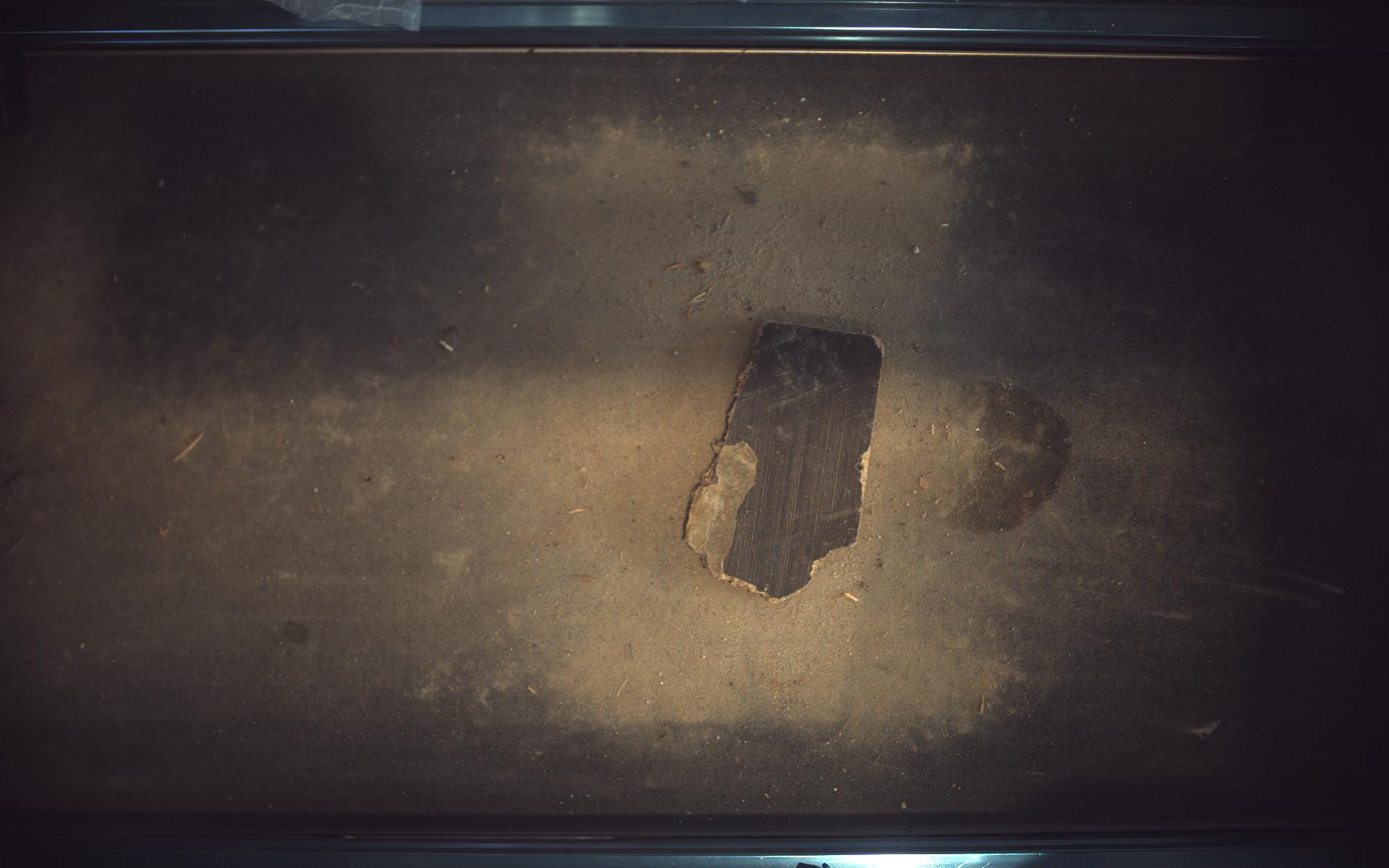wood: (687, 323, 884, 599)
